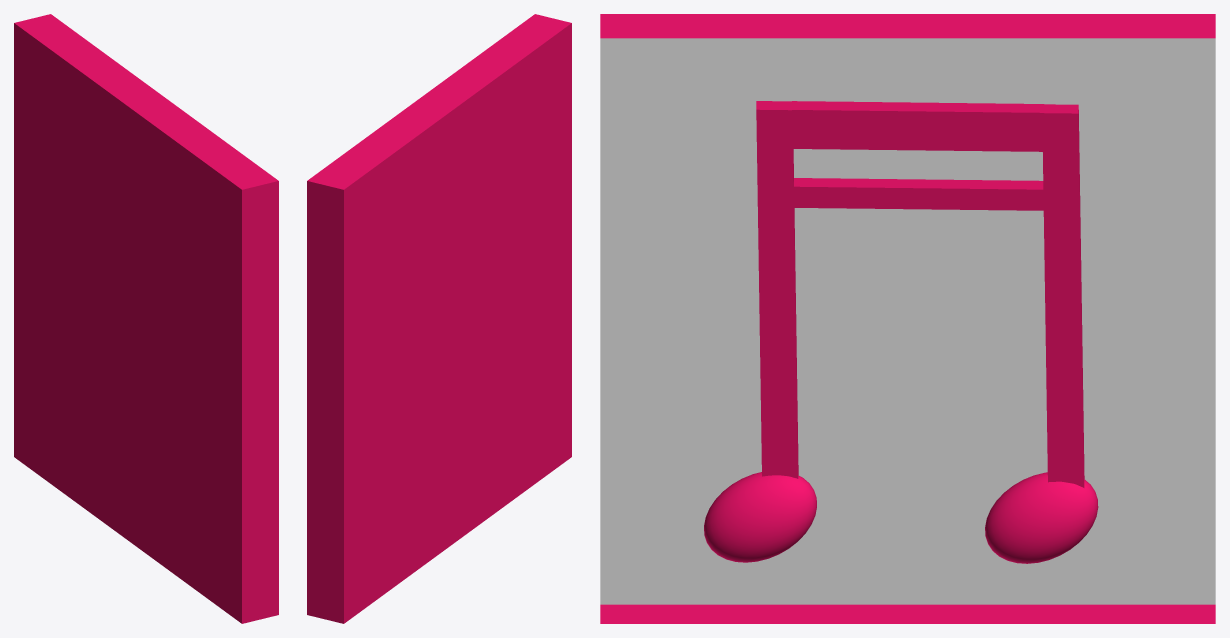
The model's file is NotaMusicalBlanco_ParaUnity.fbx.
3 renders of one model, left to right at view 1: azimuth 30°, elevation 25°; view 2: azimuth 150°, elevation 25°; view 3: azimuth 270°, elevation 25°, orthographic. The views are drawn at different scales.
Parts seen in each view (by area): view 1: Marco; view 2: Marco; view 3: Marco, Sphere.
Part boxes in pixels (<box>): Marco: <box>14,14,278,623</box>; Marco: <box>307,14,571,623</box>; Marco: <box>600,14,1215,623</box>; Sphere: <box>704,101,1098,563</box>.
Bounding box in the file's own units: 50.82 × 344 × 327.
Materials: 2 (2 with a texture image).
